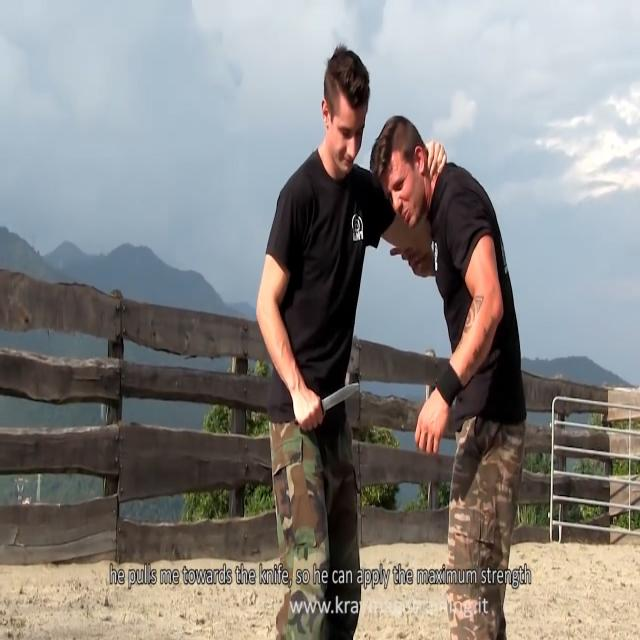knife: (322, 376, 363, 421)
